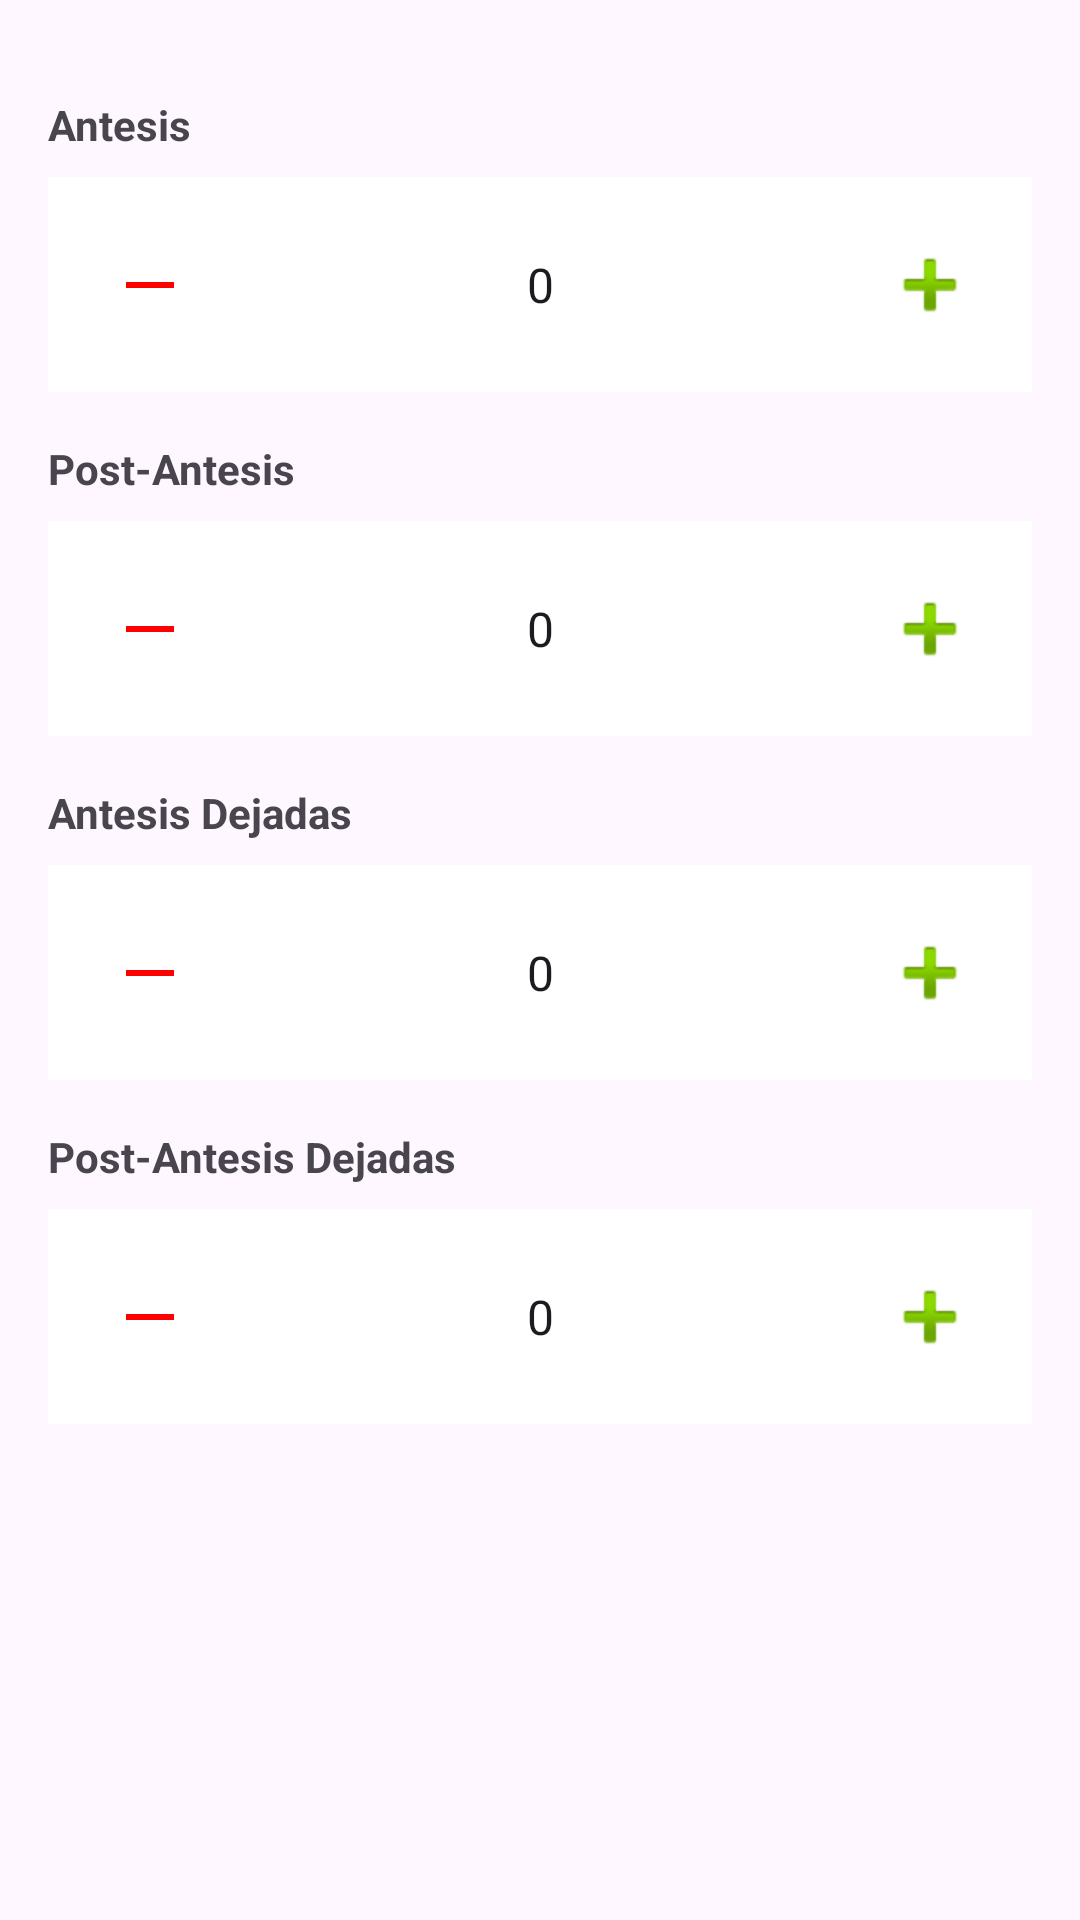

Icons on this 1080 × 1920 Android screen, each with its box as bbox=[x1, y1, x2, y2]:
Increase: bbox=[903, 258, 957, 312], bbox=[903, 602, 957, 656], bbox=[903, 946, 957, 1000], bbox=[903, 1290, 957, 1344]
